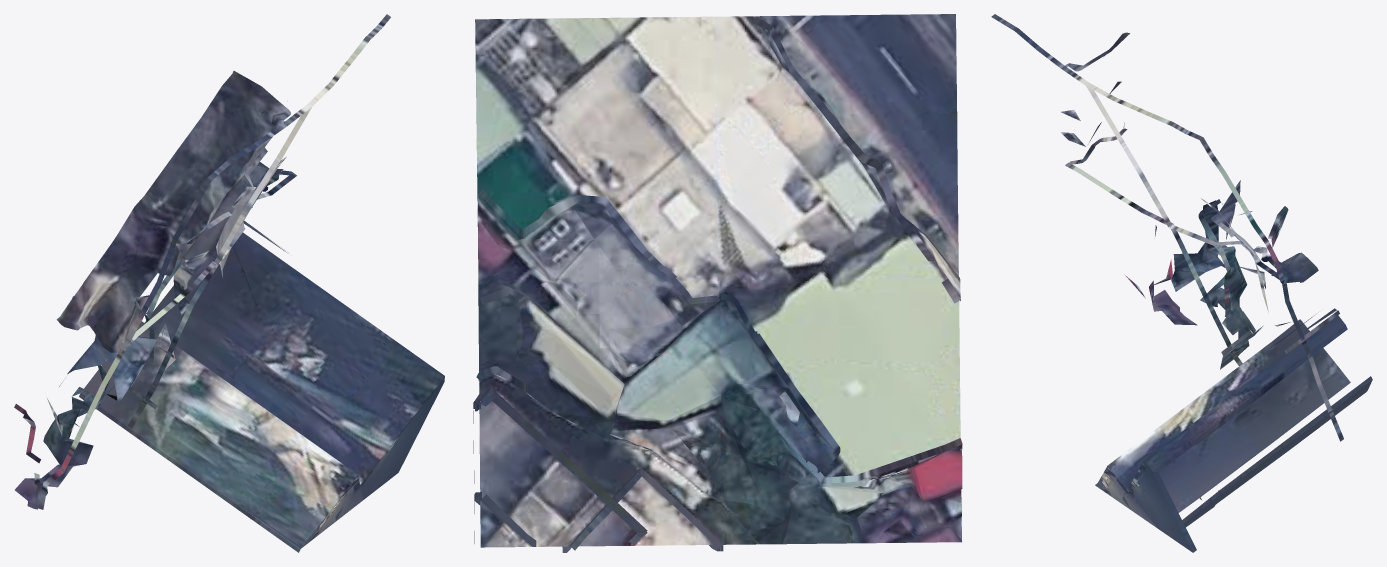
The picture shows the model from 3 angles, left to right: view 1: azimuth 30°, elevation 25°; view 2: azimuth 150°, elevation 25°; view 3: azimuth 270°, elevation 25°; orthographic projection. The views are drawn at different scales.
Bounding box in the file's own units: 41.35 × 44.82 × 35.59.
1 material, 1 textured.
